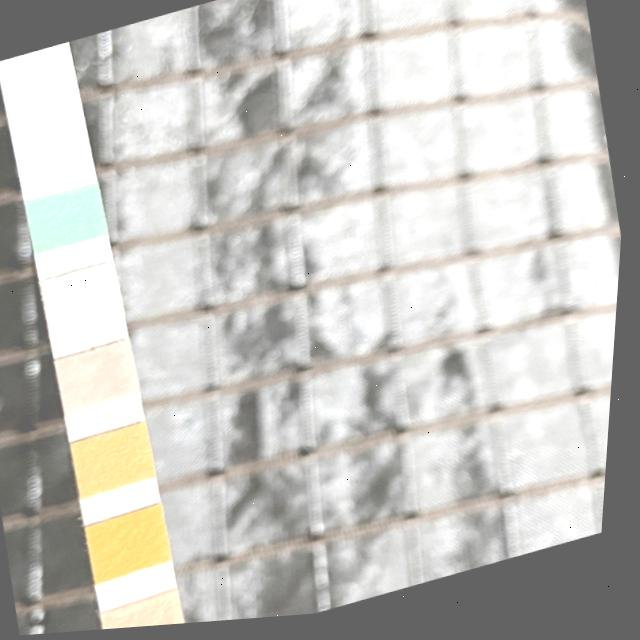Bilirubin: (45, 266, 123, 332)
Blood: (97, 511, 175, 579)
Glucose: (30, 188, 105, 252)
Ketone: (62, 344, 138, 412)
SpGravity: (78, 424, 158, 495)
pH: (115, 596, 191, 631)
